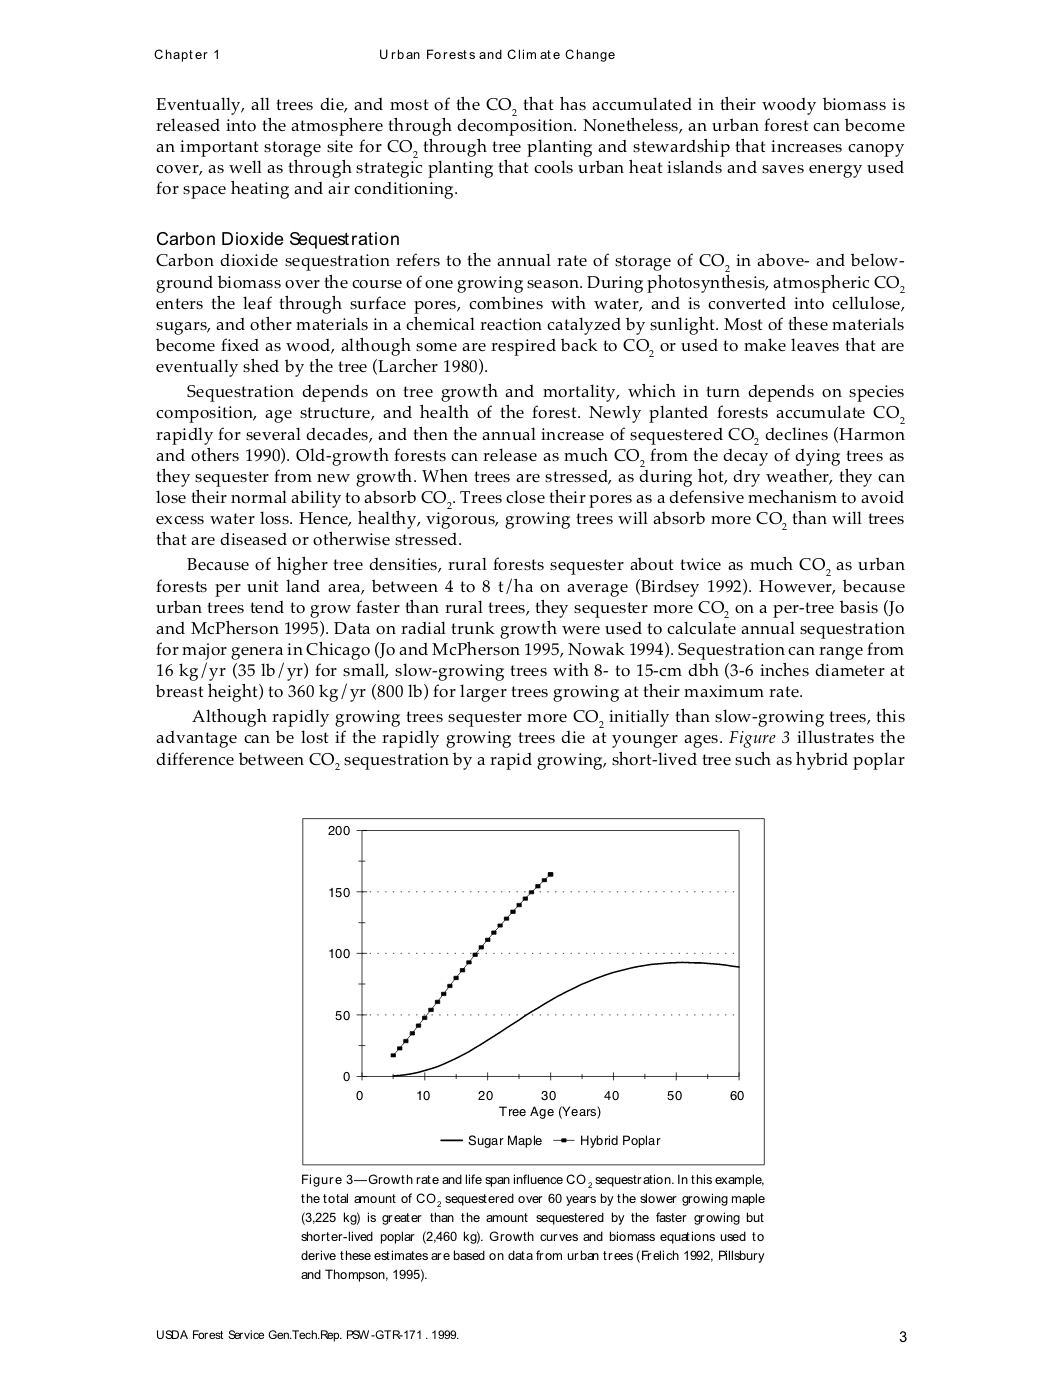figure: (302, 817, 765, 1166)
